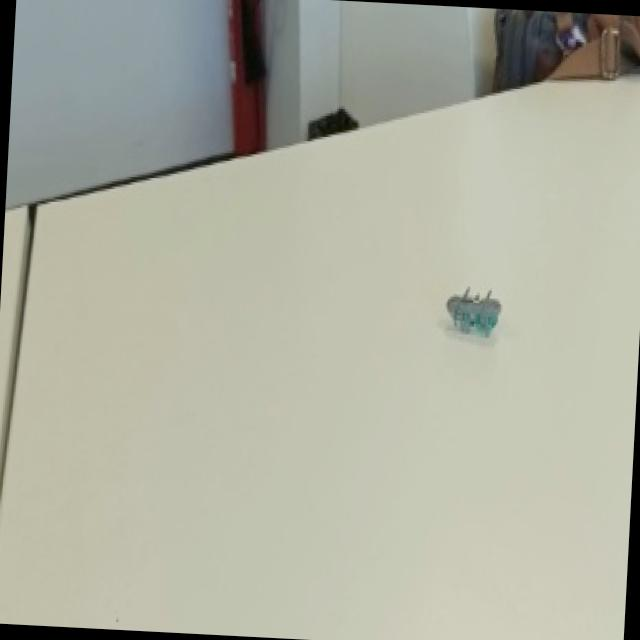5_NanoBug_GrisClaro: (418, 270, 513, 352)
